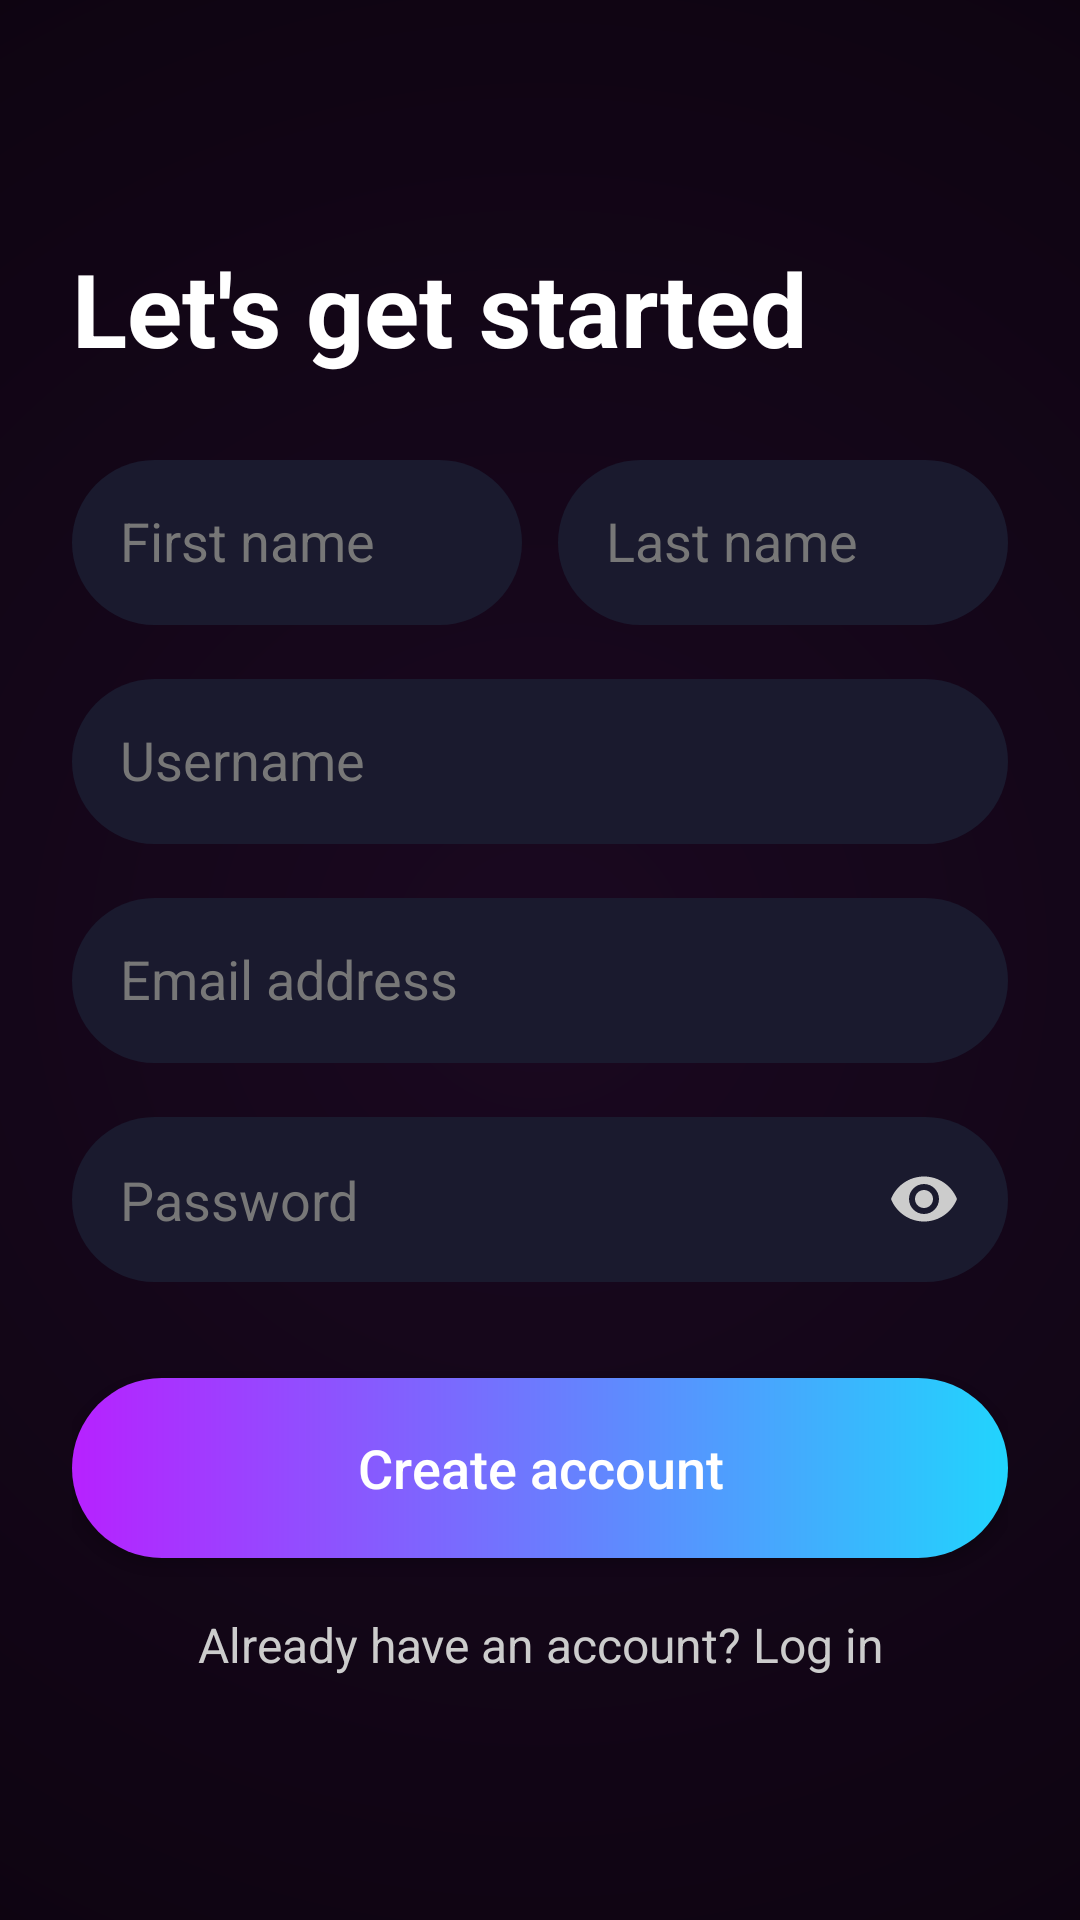

Screen size 1080 x 1920. Icon name, then its box in pixels as (x1, y1, x2, y2):
eye: (891, 1176, 957, 1222)
